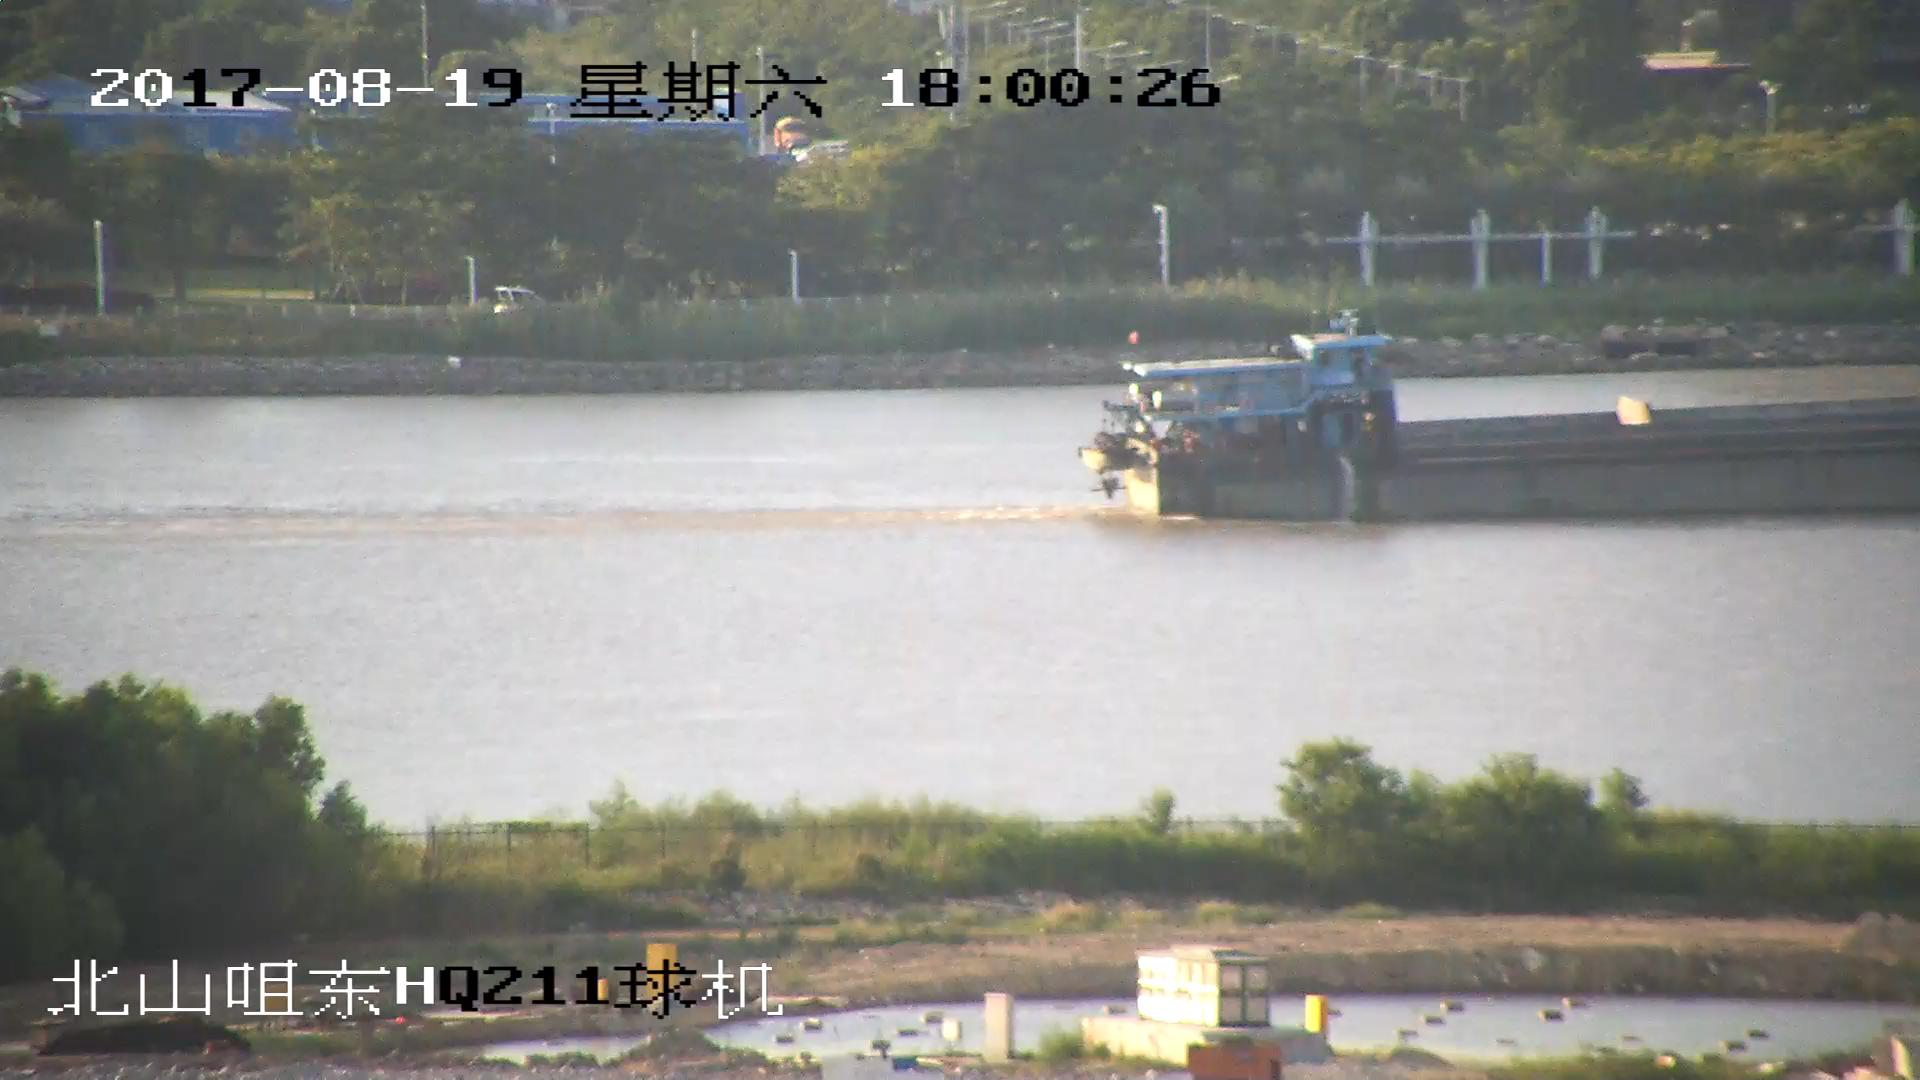bulk cargo carrier: (1082, 326, 1920, 521)
